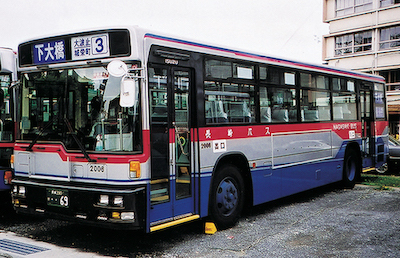destination: (29, 32, 111, 65)
